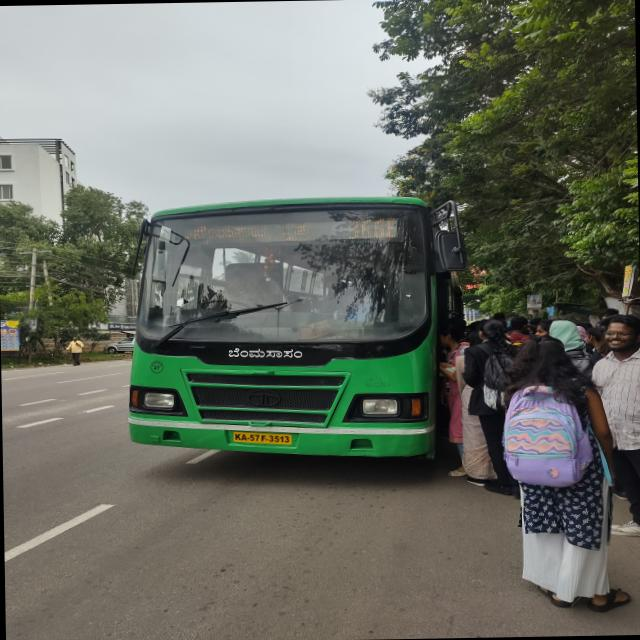bus: (129, 186, 458, 468)
display: (176, 213, 404, 246)
dnumber: (348, 216, 396, 238)
